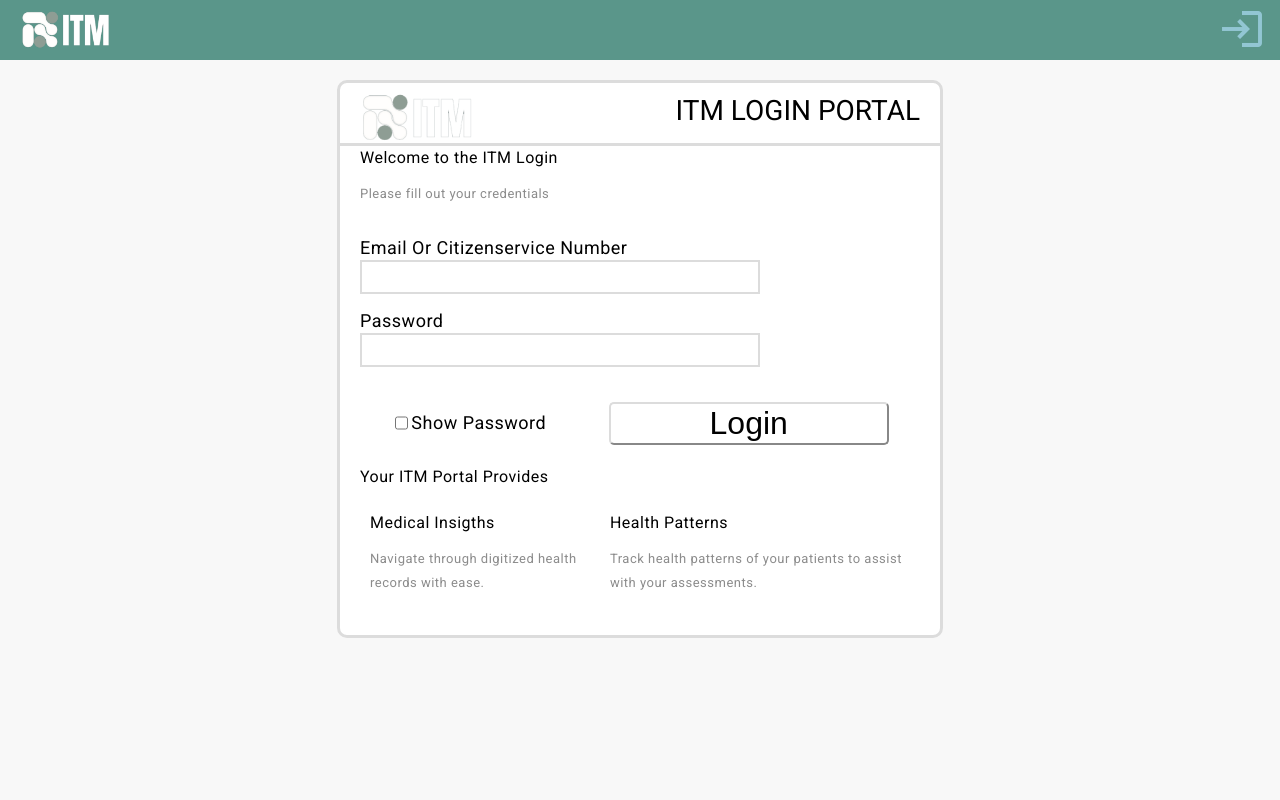
it: Login Page › should display a success message on successful login
Note: Fill in the form fields
Type "123456789" into the field named "bsnOrEmail".
click(560, 277); type("123456789")  # box x1=360 y1=260 x2=760 y2=294
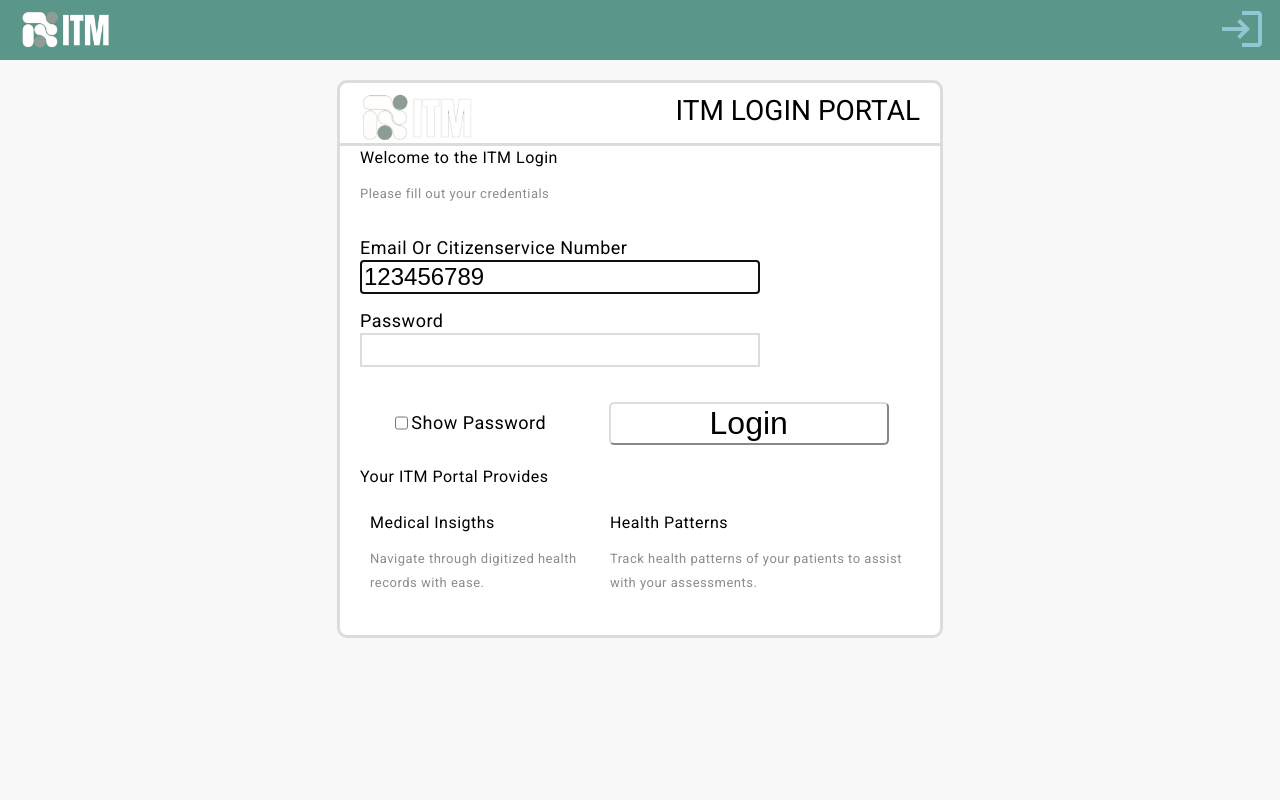
Type "password123" into the password field named "password".
click(560, 350); type("password123")  # box x1=360 y1=333 x2=760 y2=367
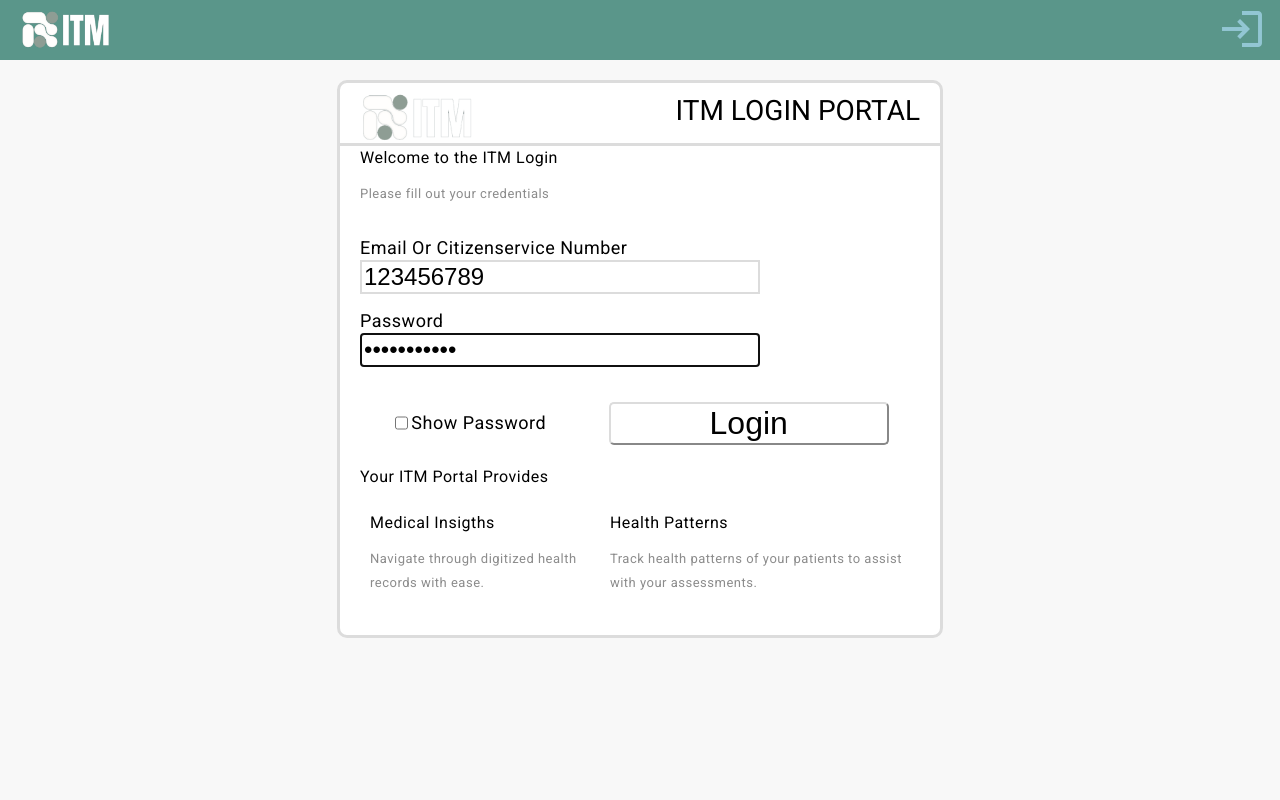
Note: Submit the form
Click the submit button.
click(749, 424)  # box x1=609 y1=402 x2=889 y2=445
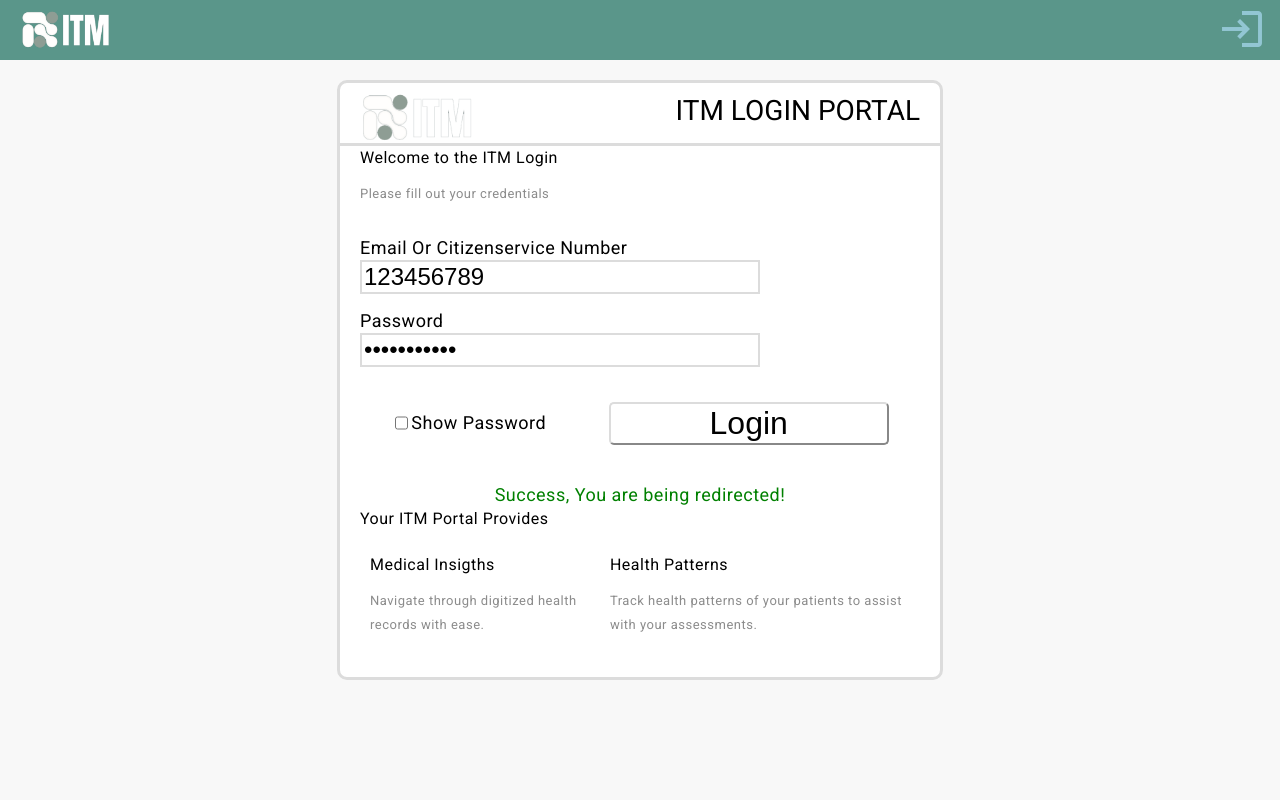
Result: the text with class "succesMessage" reads "Success, You are being redirected!" at x1=495 y1=484 x2=786 y2=505
